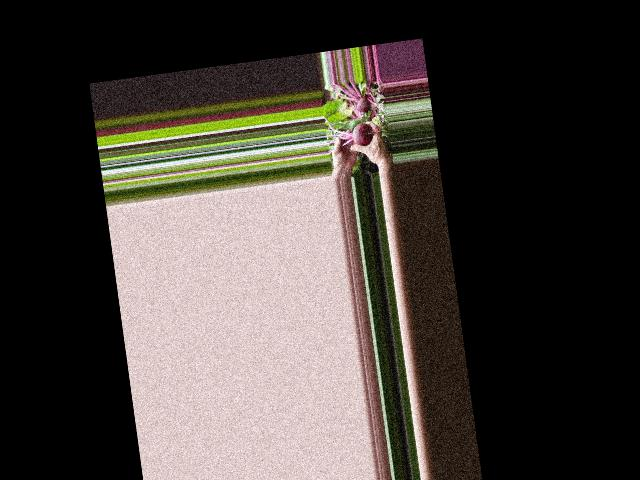beet: (323, 109, 375, 151)
